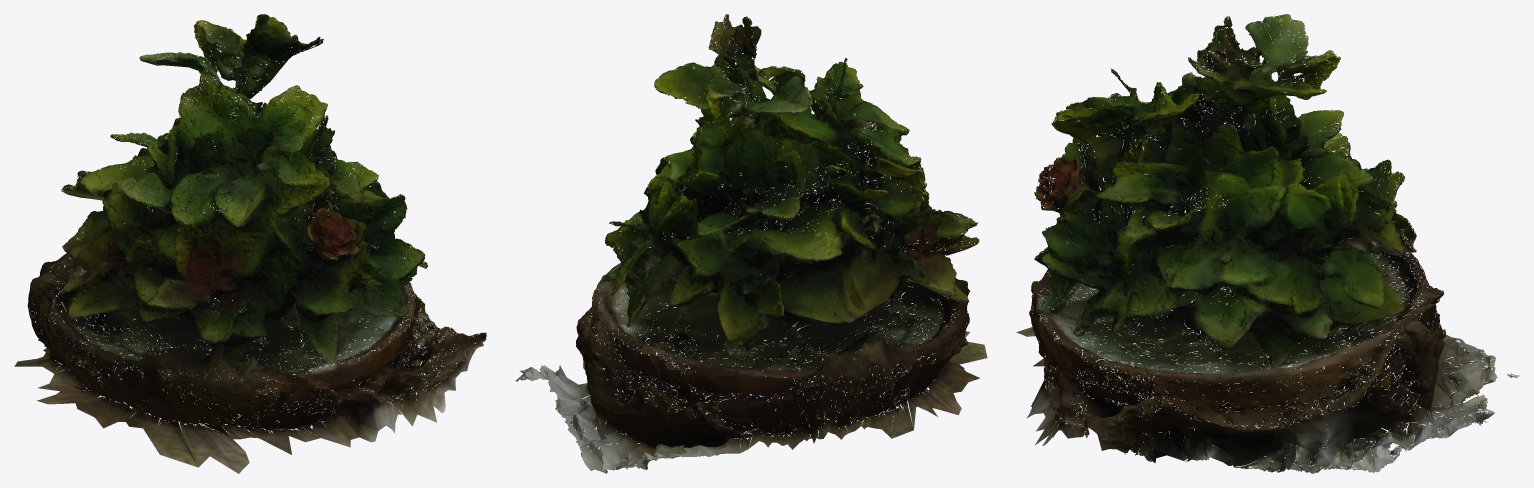
The model's file is vase1.glb.
3 renders of one model, left to right at view 1: azimuth 30°, elevation 25°; view 2: azimuth 150°, elevation 25°; view 3: azimuth 270°, elevation 25°, orthographic. The views are drawn at different scales.
Visible parts, largest first — view 1: Mesh_0_Part_0; view 2: Mesh_0_Part_0; view 3: Mesh_0_Part_0.
Boxes of the visible parts, x1,y1,x2,y2 form: Mesh_0_Part_0: [14, 14, 486, 473]; Mesh_0_Part_0: [515, 14, 987, 473]; Mesh_0_Part_0: [1016, 14, 1519, 473].
Bounding box in the file's own units: 0.4073 × 0.3891 × 0.4363.
Materials: 1 (1 with a texture image).
